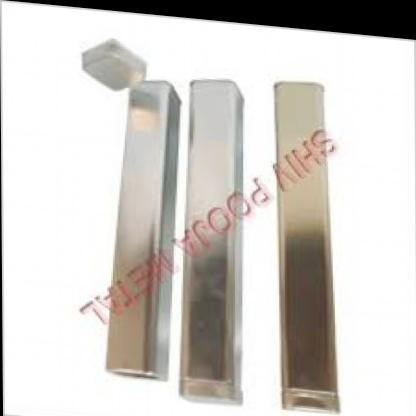Metal: (26, 19, 359, 416)
